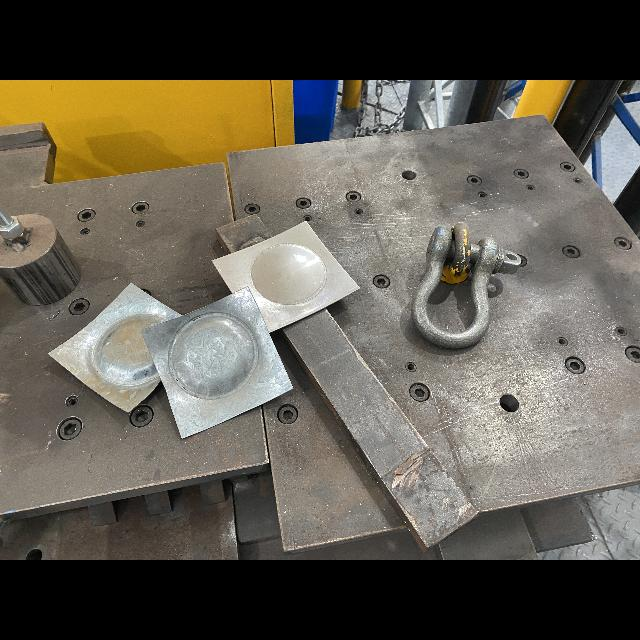Aluminium: (211, 221, 360, 333)
Ferrous Metal: (280, 308, 481, 553), (0, 203, 81, 306), (215, 213, 273, 254), (441, 242, 471, 284), (452, 222, 471, 242)
Galvanized Steel: (141, 286, 294, 439), (48, 282, 183, 413), (411, 225, 492, 348), (464, 235, 521, 273)
